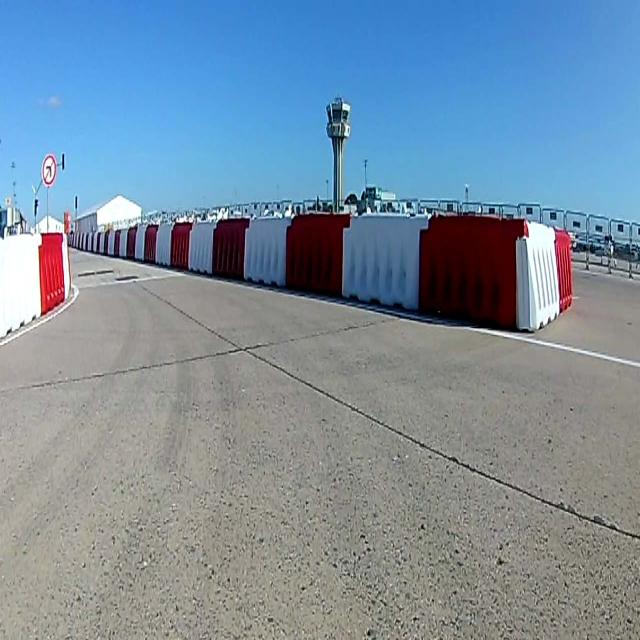soladonulmez: (41, 154, 57, 186)
